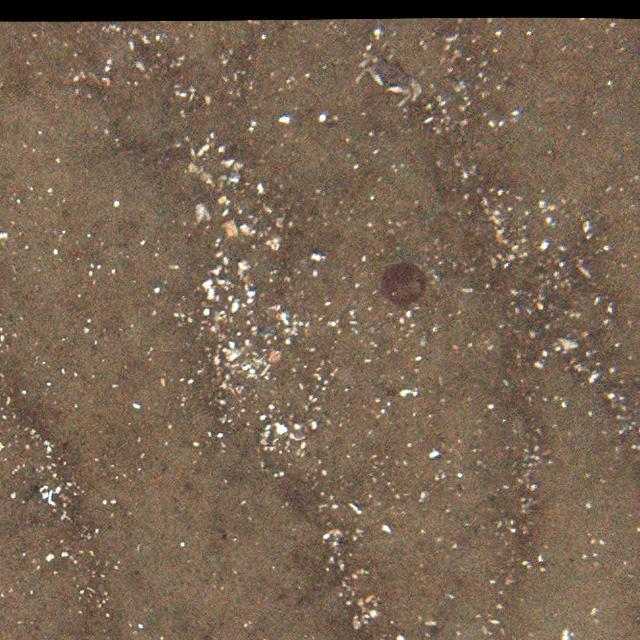crab: (354, 44, 425, 110)
